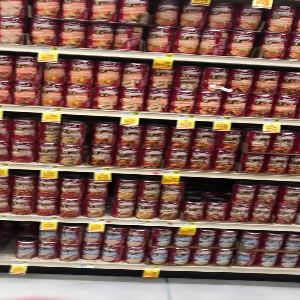void: (1, 218, 18, 265)
